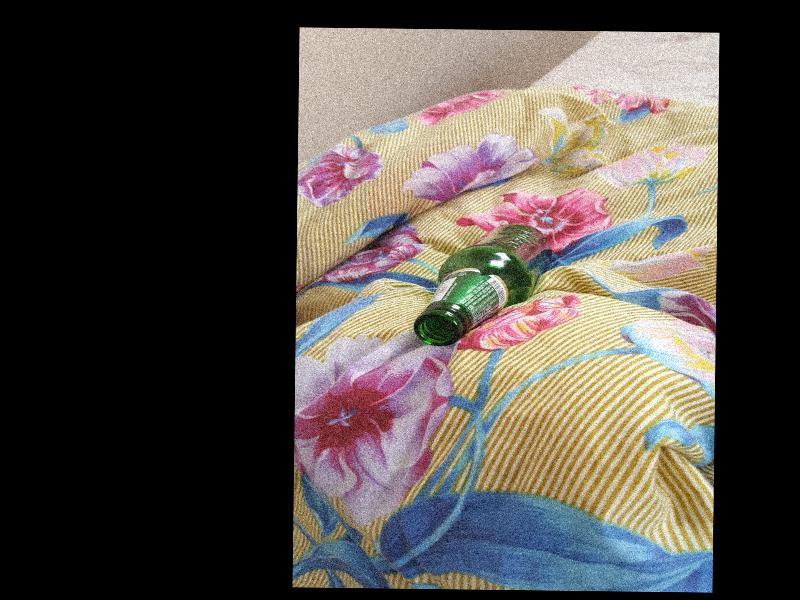Beer: (412, 222, 552, 349)
